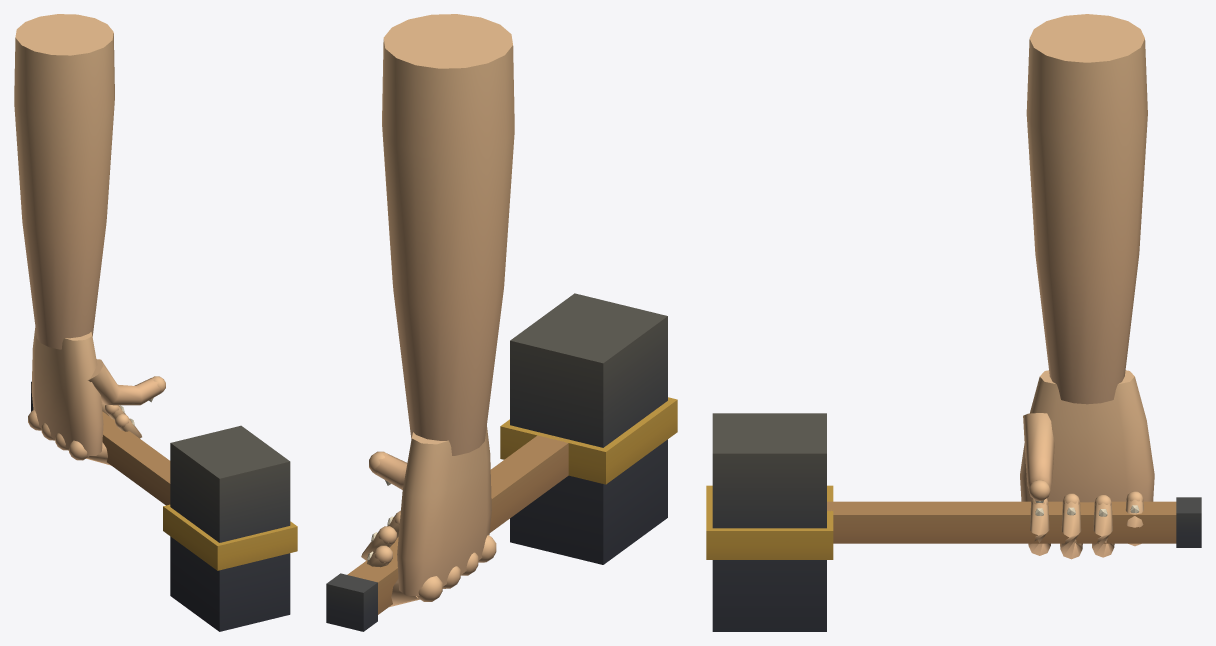
Rendered from merchant_aron_fore_r.glb.
The picture shows the model from 3 angles, left to right: view 1: azimuth 30°, elevation 25°; view 2: azimuth 150°, elevation 25°; view 3: azimuth 270°, elevation 25°; orthographic projection. The views are drawn at different scales.
Parts seen in each view (by area): view 1: merchant_aron_fore_r; view 2: merchant_aron_fore_r; view 3: merchant_aron_fore_r.
Boxes of the visible parts, x1=… form: merchant_aron_fore_r: x1=14, y1=14, x2=297, y2=631; merchant_aron_fore_r: x1=326, y1=14, x2=677, y2=631; merchant_aron_fore_r: x1=706, y1=14, x2=1201, y2=631.
Size of the model in its own units: 0.4323 by 1.59 by 1.29.
1 material, 1 textured.
